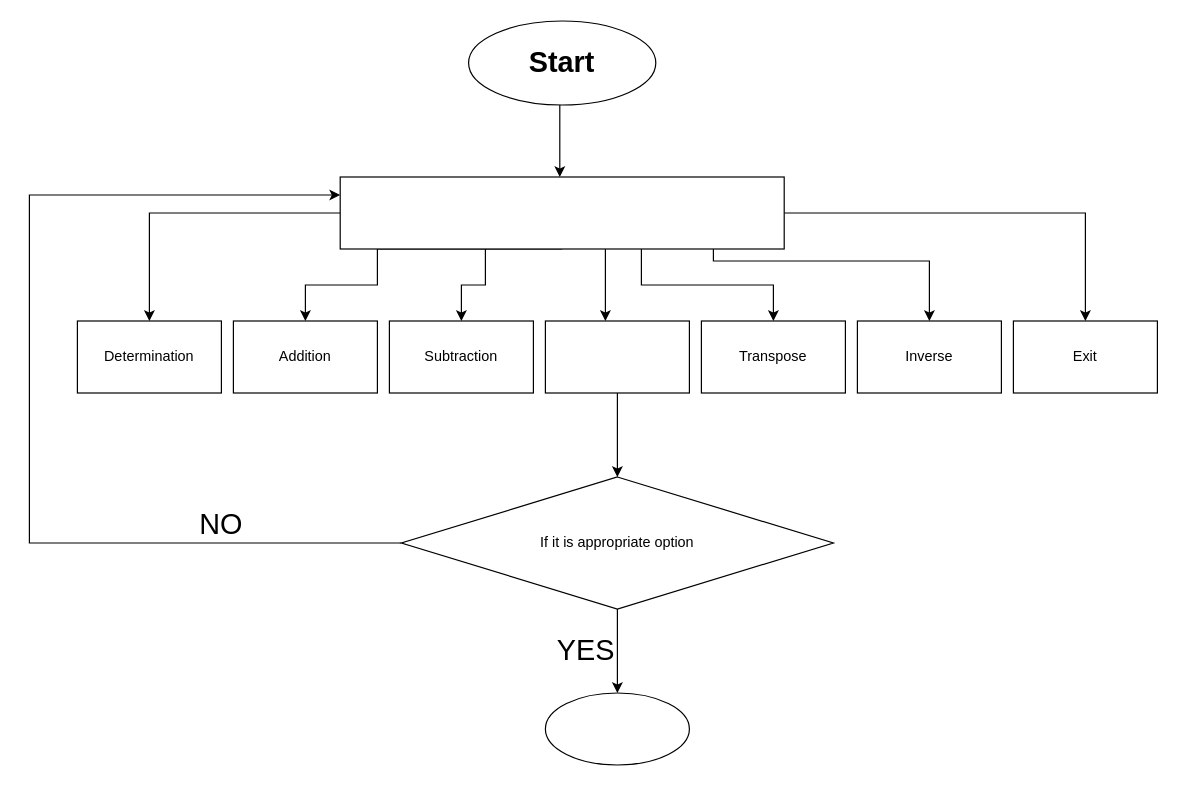
Image size: 1178x786. Some labels were removed from this diagram. Here are the shapes that lost their labels. From the top down, the box of each, then its label:
(339, 176, 784, 249): Press a key to select the Appropriate option:
(544, 320, 689, 393): Multiplication
(544, 692, 689, 765): End
